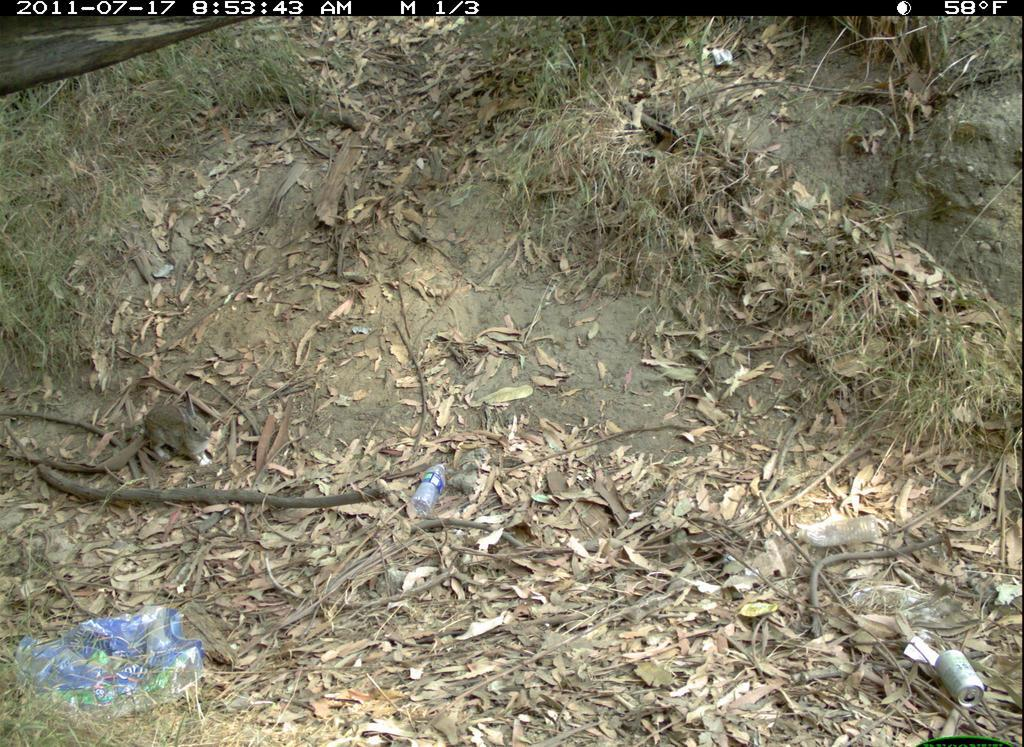rabbit: (111, 391, 241, 470)
